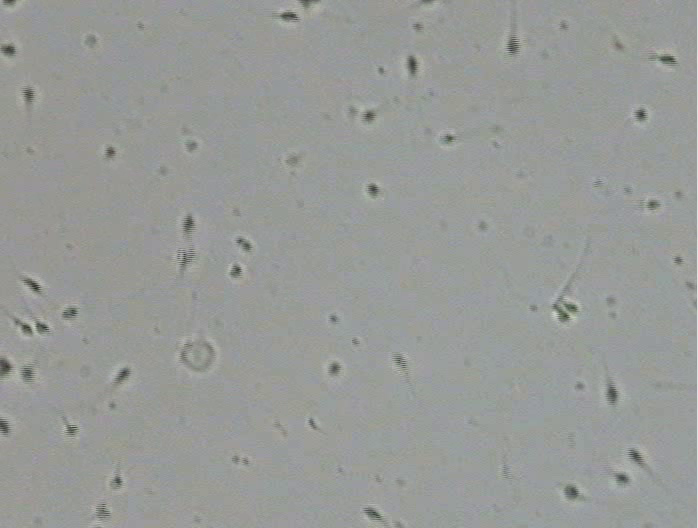Impurity: (178, 340, 216, 373), (84, 35, 97, 48), (422, 1, 435, 5)
S: (20, 275, 43, 295), (176, 246, 196, 266), (180, 213, 196, 236), (505, 33, 521, 56), (112, 366, 131, 385), (604, 383, 619, 406), (626, 448, 645, 466), (19, 363, 36, 383), (361, 506, 382, 522), (405, 55, 420, 76), (94, 503, 111, 521), (34, 320, 51, 337), (21, 85, 36, 104), (393, 352, 408, 371), (279, 10, 300, 23), (658, 54, 679, 67), (60, 306, 79, 320), (327, 361, 343, 377), (360, 110, 377, 125), (366, 183, 381, 199), (633, 108, 649, 123), (564, 484, 579, 500), (63, 424, 80, 438), (613, 472, 630, 486), (1, 357, 12, 378), (19, 322, 34, 337), (229, 262, 243, 278), (1, 44, 16, 58), (108, 477, 124, 490), (440, 133, 456, 146), (185, 139, 199, 153), (646, 199, 662, 211), (1, 417, 12, 434), (103, 146, 117, 159), (556, 310, 570, 322), (564, 302, 577, 313), (298, 1, 320, 7), (2, 1, 17, 6)
